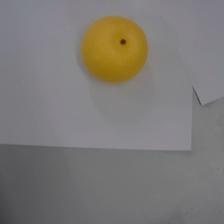yellow: (80, 15, 148, 83)
